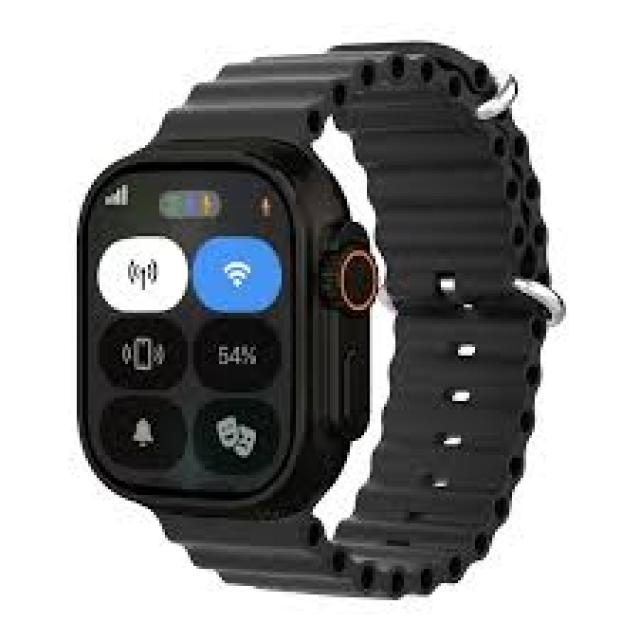objects: (80, 43, 552, 594)
